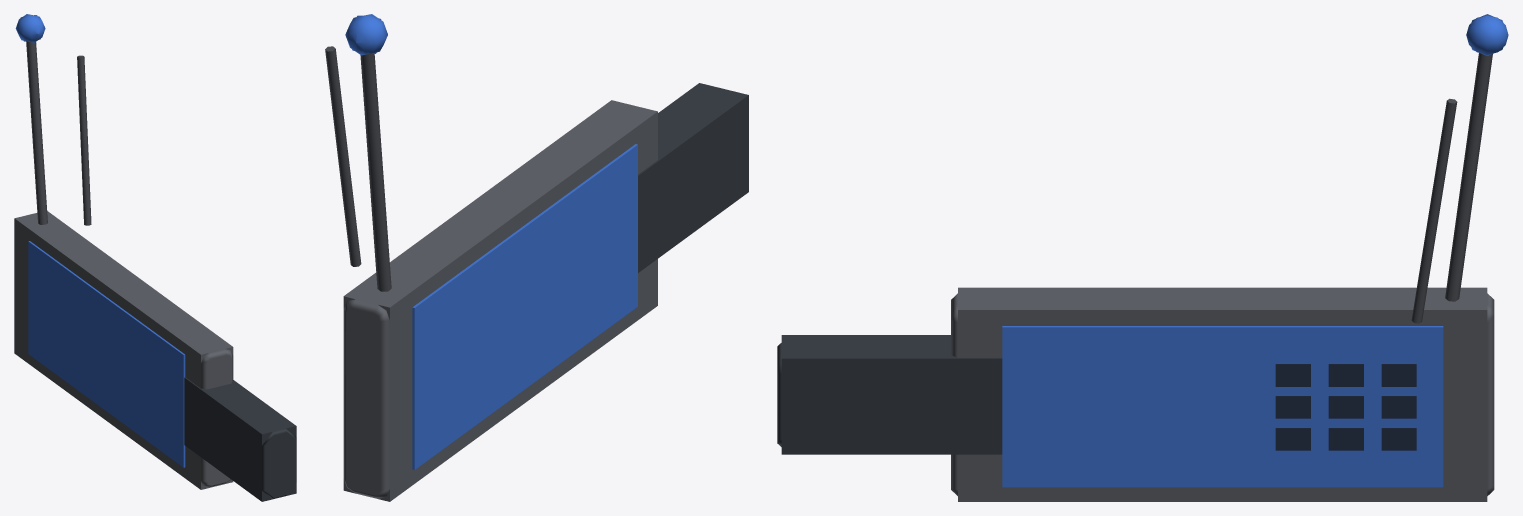
The model's file is st_emp.glb.
The picture shows the model from 3 angles, left to right: view 1: azimuth 30°, elevation 25°; view 2: azimuth 150°, elevation 25°; view 3: azimuth 270°, elevation 25°; orthographic projection. The views are drawn at different scales.
Parts seen in each view (by area): view 1: L0, L1; view 2: L0, L1; view 3: L0, L1.
Part boxes in pixels (x1,y1,x2,y2): L0: (14, 14, 296, 499); L1: (14, 15, 296, 501); L0: (325, 14, 748, 498); L1: (343, 15, 748, 501); L0: (777, 15, 1508, 495); L1: (781, 14, 1503, 501).
Bounding box in the file's own units: 0.0542 × 0.297 × 0.4144.
